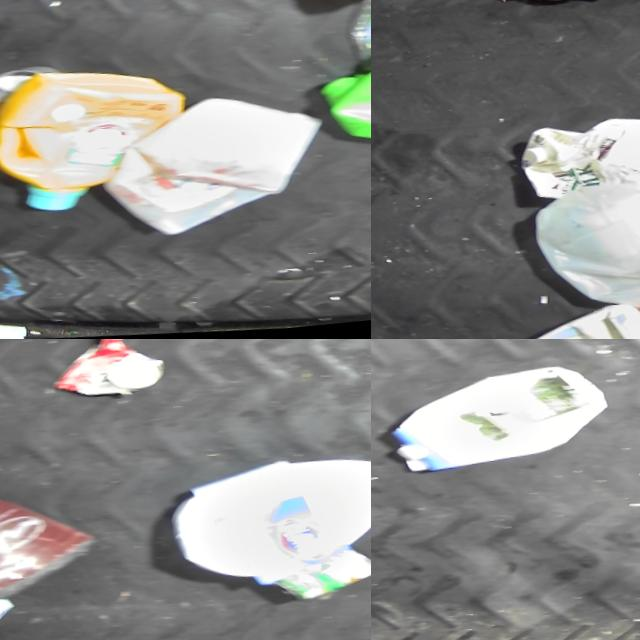can: (48, 341, 167, 408), (270, 549, 371, 615), (0, 63, 59, 101)
milk_jug: (99, 88, 323, 252), (167, 449, 371, 608), (388, 360, 610, 488), (527, 179, 640, 329), (519, 113, 640, 212), (459, 0, 620, 15)
non_white_jug: (0, 59, 186, 224), (474, 298, 640, 339)
plastic_bottle: (345, 0, 371, 83)
